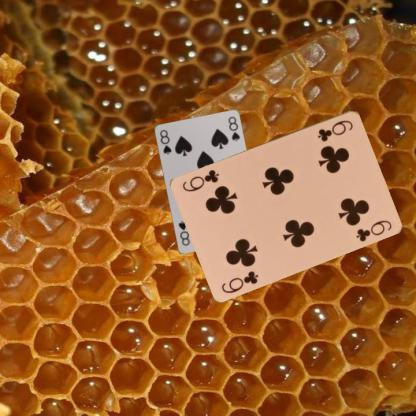6c: (219, 268, 260, 295), (315, 116, 355, 142)
8s: (157, 127, 173, 156)
